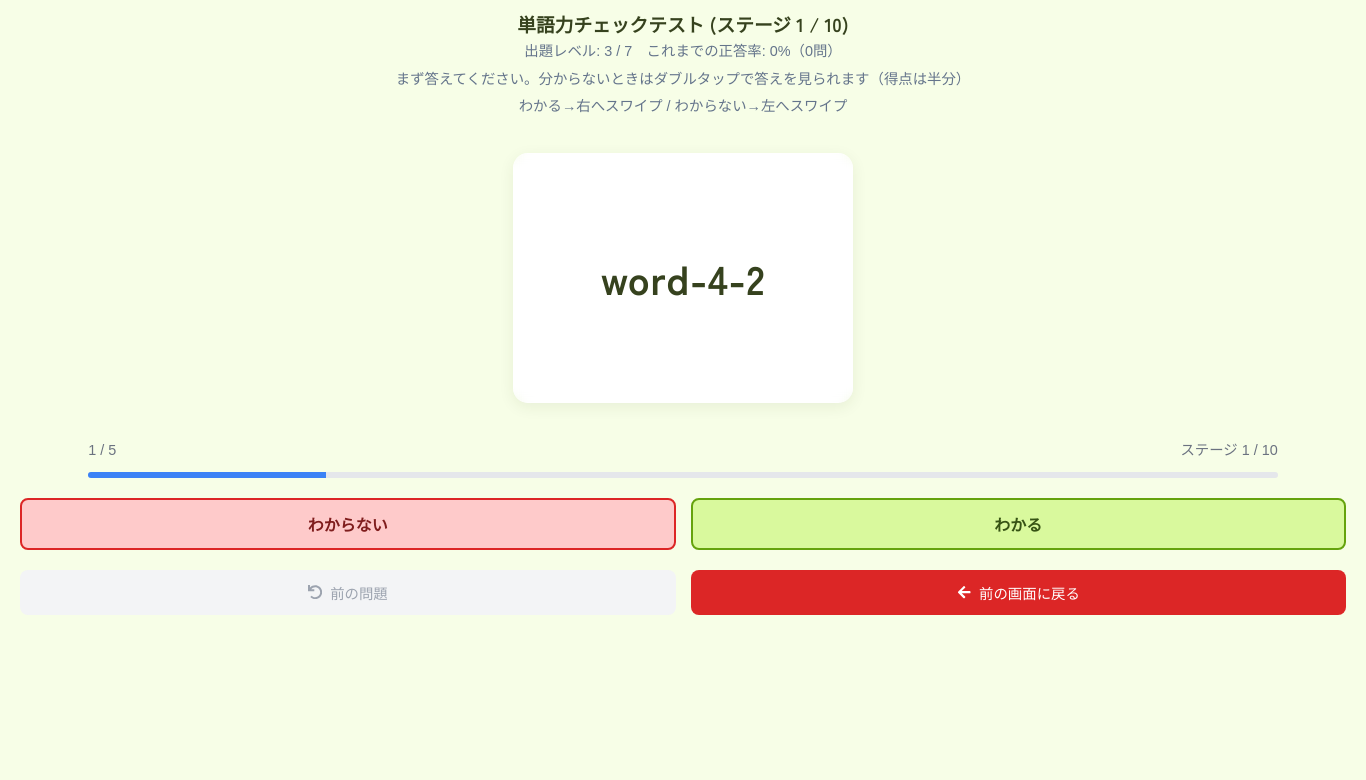
ステージ途中でリセットされない › ステージ1を終えるとステージ2の10問に進み、履歴は残る
Click the button "わかる" at [1018, 524], box [690, 498, 1346, 550]
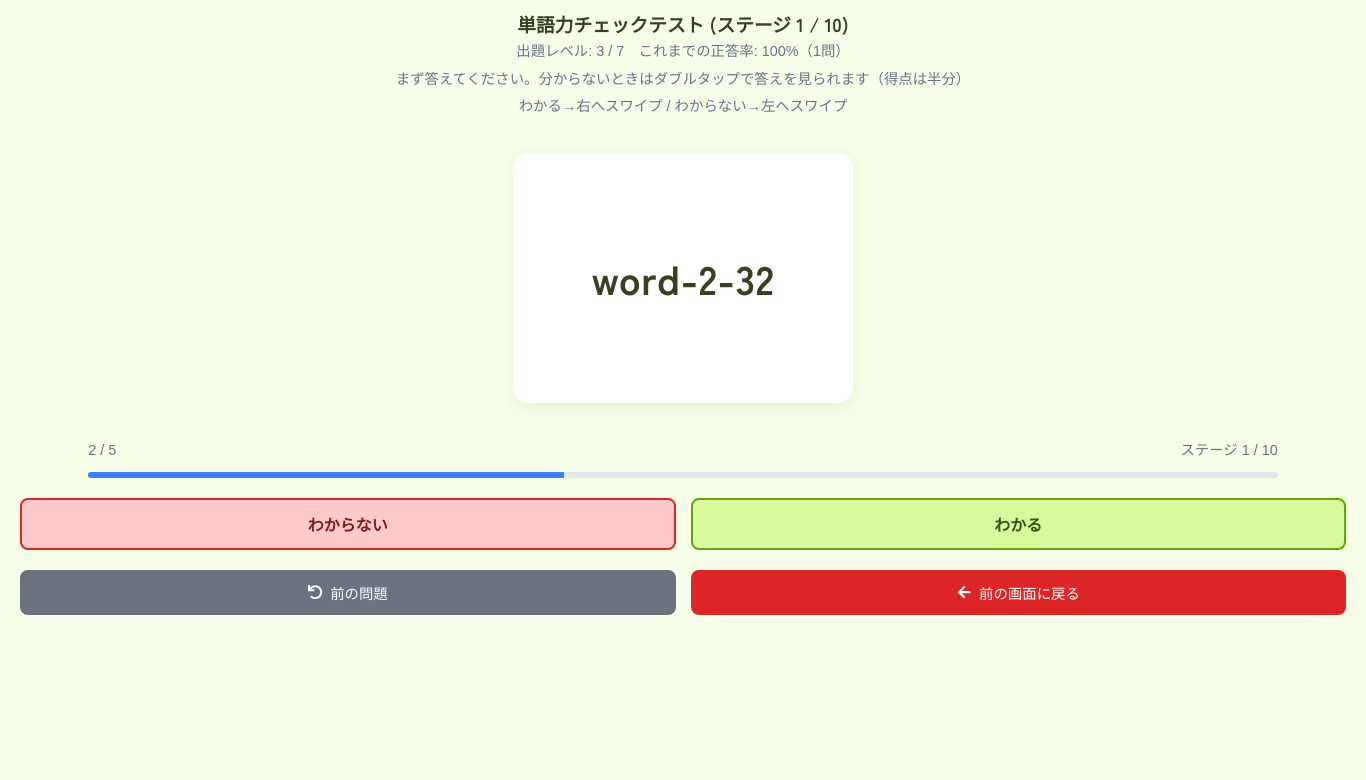
Click the button "わかる" at [1018, 524], box [690, 498, 1346, 550]
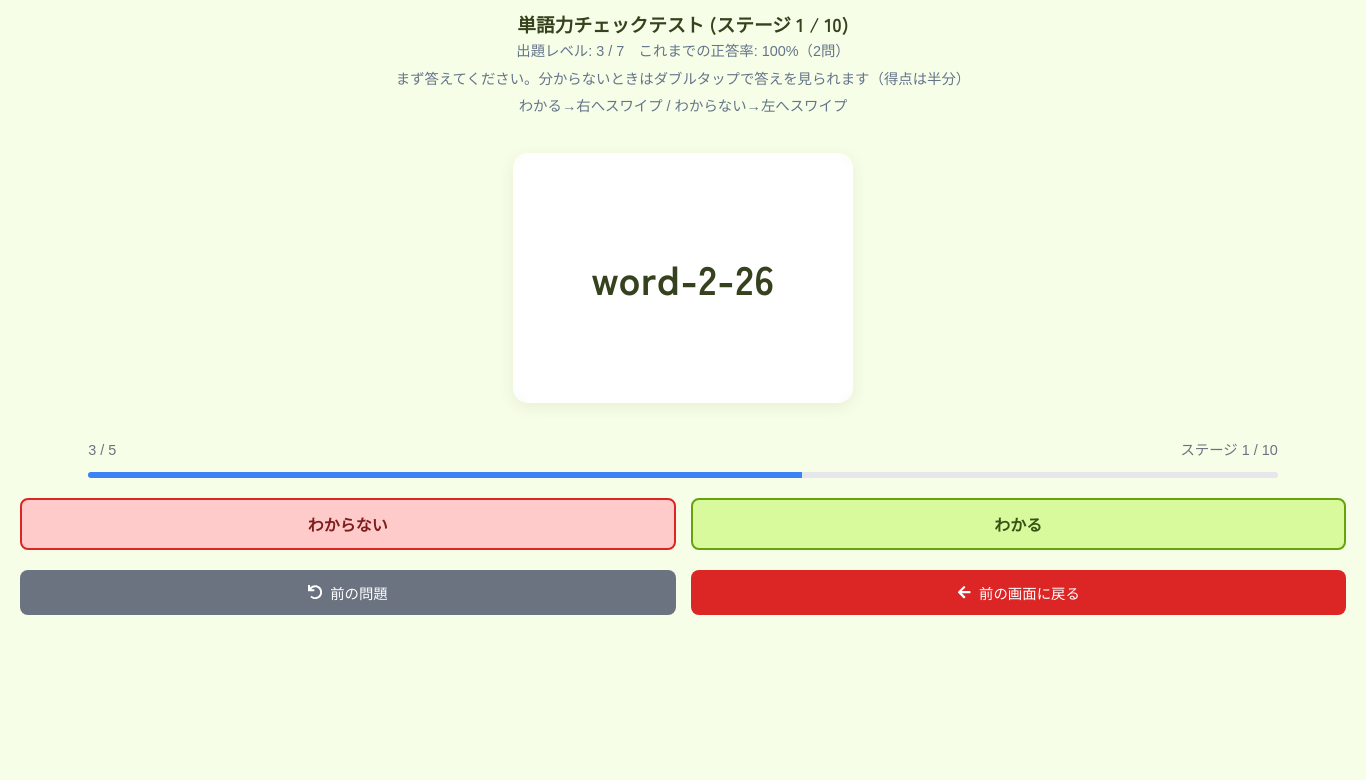
Click the button "わかる" at [1018, 524], box [690, 498, 1346, 550]
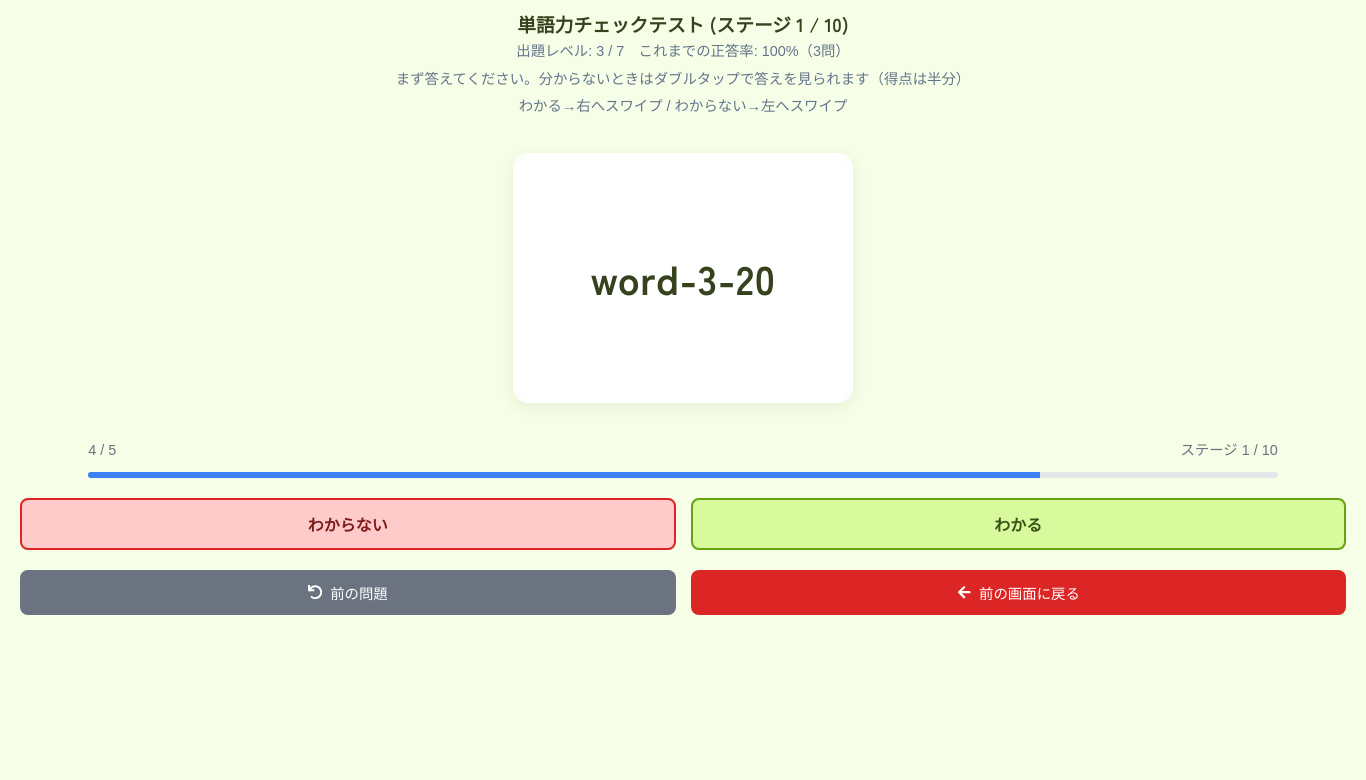
Click the button "わかる" at [1018, 524], box [690, 498, 1346, 550]
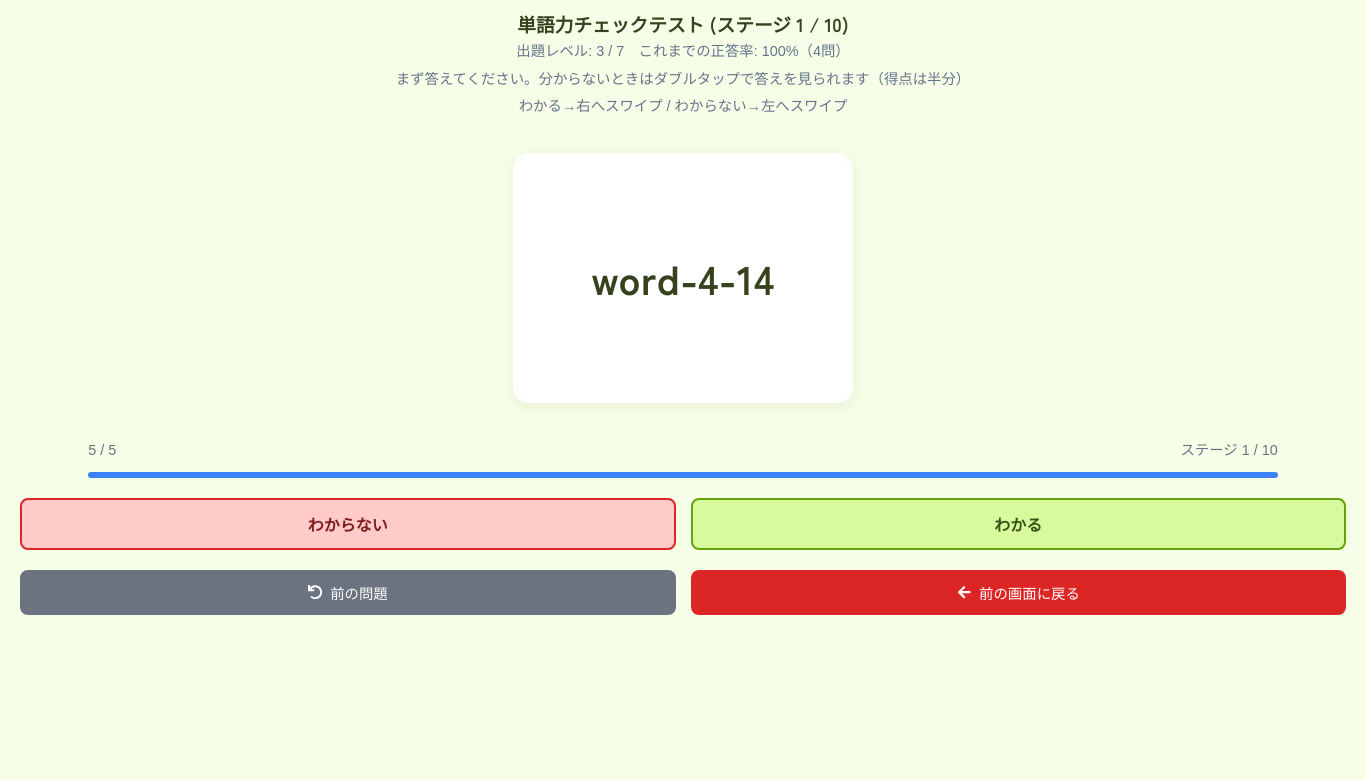
Click the button "わかる" at [1018, 524], box [690, 498, 1346, 550]
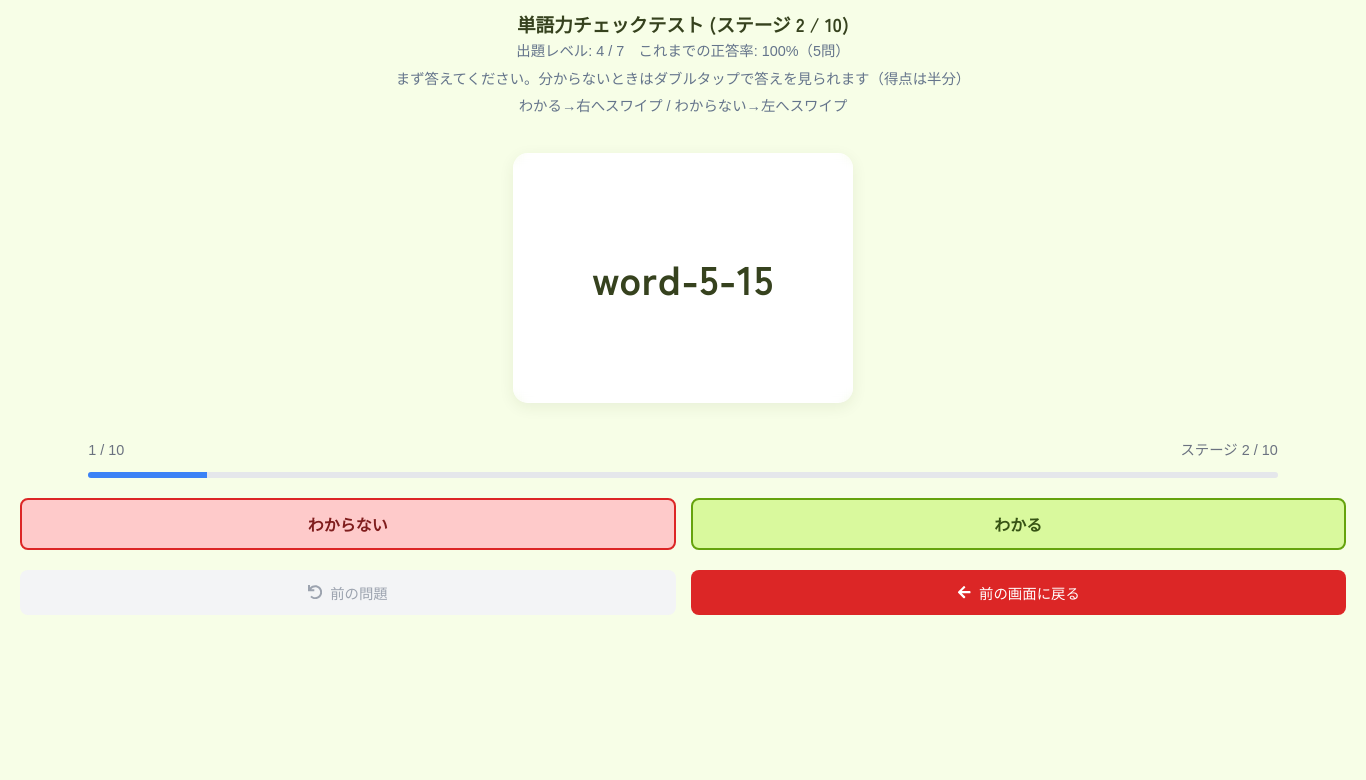
Now the text "ステージ 2 / 10" is shown, box [1180, 439, 1278, 462]
Now the text "出題レベル: 4 / 7 これまでの正答率: 100%（5問）" is shown, box [516, 43, 850, 59]
